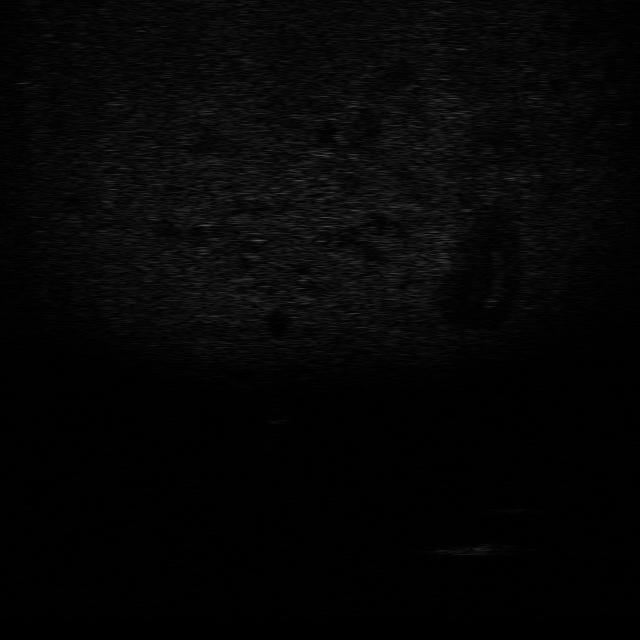ball: (259, 405, 295, 425)
metal bucket: (434, 536, 531, 562)
tyre: (472, 486, 538, 518)
